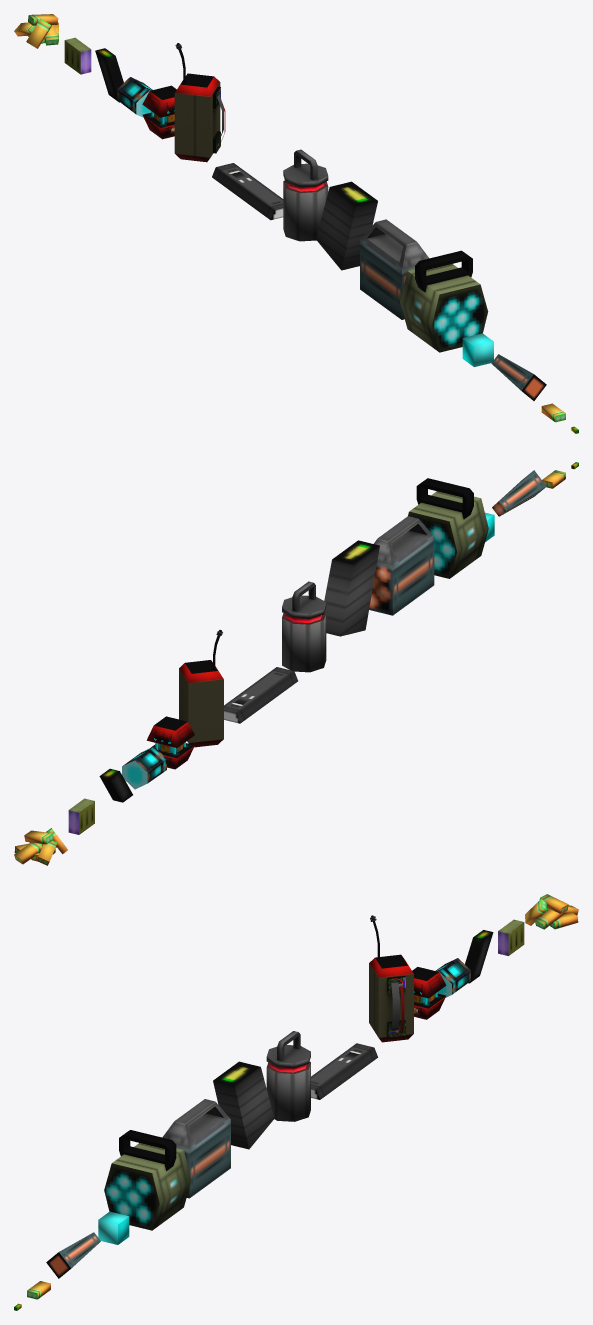
Rendered from cyberpunk guns asset pack_COLLECTIBLES + PROJECTILES.fbx.
3 renders of one model, top to bottom at view 1: azimuth 30°, elevation 25°; view 2: azimuth 150°, elevation 25°; view 3: azimuth 330°, elevation 25°, orthographic.
Visible parts, largest first — view 1: grenade launcher ammo world, rpg ammo world, explosive world, rifle mag world, sci-fi ammo world, smg ammo world, grenade world, shotgun ammo pile world, rpg shell world, launcher shell world, revolver ammo world, pistol mag world (+1 smaller); view 2: grenade launcher ammo world, rpg ammo world, rifle mag world, explosive world, sci-fi ammo world, smg ammo world, grenade world, shotgun ammo pile world, revolver ammo world, rpg shell world, sniper ammo world, pistol mag world; view 3: grenade launcher ammo world, rpg ammo world, explosive world, rifle mag world, sci-fi ammo world, smg ammo world, grenade world, shotgun ammo pile world, rpg shell world, launcher shell world, revolver ammo world, pistol mag world (+1 smaller).
Boxes of the visible parts, x1,y1,x2,y2 form: grenade launcher ammo world: (400, 250, 488, 352); rpg ammo world: (360, 219, 429, 319); explosive world: (174, 43, 225, 162); rifle mag world: (316, 181, 377, 270); sci-fi ammo world: (283, 149, 328, 241); smg ammo world: (212, 163, 283, 220); grenade world: (142, 85, 176, 139); shotgun ammo pile world: (14, 14, 58, 48); rpg shell world: (491, 354, 546, 400); launcher shell world: (462, 333, 493, 366); revolver ammo world: (117, 77, 152, 117); pistol mag world: (95, 48, 123, 102); grenade launcher ammo world: (408, 478, 488, 578); rpg ammo world: (369, 516, 434, 615); rifle mag world: (324, 540, 379, 636); explosive world: (179, 630, 223, 747); sci-fi ammo world: (282, 581, 326, 672); smg ammo world: (224, 667, 297, 723); grenade world: (146, 716, 194, 769); shotgun ammo pile world: (14, 828, 67, 865); revolver ammo world: (122, 746, 166, 789); rpg shell world: (492, 470, 546, 516); sniper ammo world: (68, 798, 94, 834); pistol mag world: (99, 768, 132, 802); grenade launcher ammo world: (104, 1130, 191, 1230); rpg ammo world: (162, 1099, 230, 1198); explosive world: (369, 915, 413, 1042); rifle mag world: (213, 1061, 274, 1149); sci-fi ammo world: (266, 1031, 310, 1121); smg ammo world: (311, 1043, 377, 1099); grenade world: (412, 967, 446, 1019); shotgun ammo pile world: (525, 894, 578, 929); rpg shell world: (46, 1232, 100, 1278); launcher shell world: (98, 1211, 129, 1244); revolver ammo world: (435, 958, 470, 997); pistol mag world: (465, 930, 493, 983).
Size of the model in its own units: 17.11 by 34.43 by 292.
Materials: 11 (11 with a texture image).
